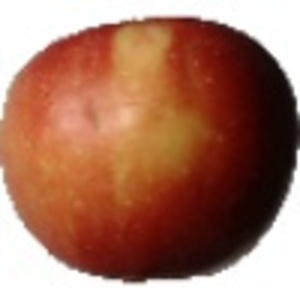maçã braeburn: (1, 14, 299, 280)
